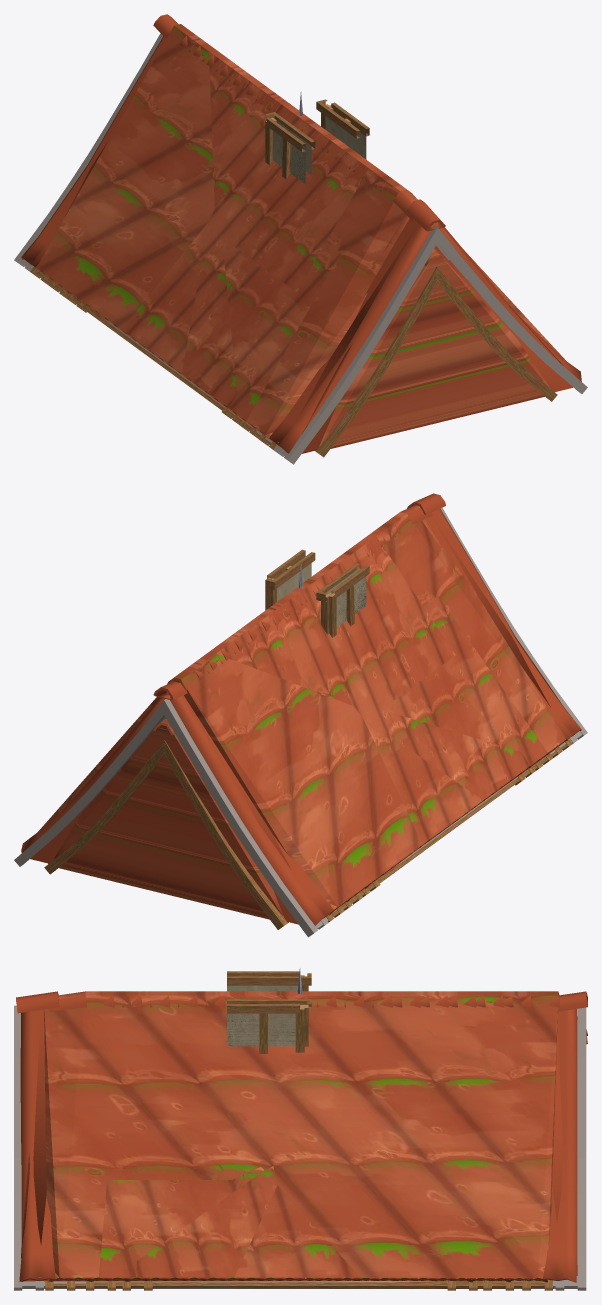
Rendered from village.glb.
3 views of the same model, one above another, from view 1: azimuth 30°, elevation 25°; view 2: azimuth 150°, elevation 25°; view 3: azimuth 270°, elevation 25° (orthographic). The views are drawn at different scales.
Visible parts, largest first — view 1: Roof_RoundTiles_8x12@far, Roof_RoundTiles_8x8@far, Roof_RoundTiles_6x14@far, Roof_RoundTiles_8x14, Roof_RoundTiles_8x10@far, Roof_RoundTiles_6x14, Roof_RoundTiles_8x14@far, Overhang_Side_Plaster_Long_L, Overhang_Side_Plaster_Long_R, Roof_RoundTiles_8x10, Overhang_Side_Plaster_Short_L, Roof_RoundTiles_8x12; view 2: Roof_RoundTiles_8x12@far, Roof_RoundTiles_8x8@far, Roof_RoundTiles_6x14@far, Roof_RoundTiles_8x14, Roof_RoundTiles_8x10@far, Roof_RoundTiles_6x14, Roof_RoundTiles_8x14@far, Overhang_Side_Plaster_Long_L, Overhang_Side_Plaster_Long_R, Roof_RoundTiles_8x10, Overhang_Side_Plaster_Short_L, Roof_RoundTiles_8x12; view 3: Roof_RoundTiles_8x12@far, Roof_RoundTiles_8x14, Roof_RoundTiles_8x10@far, Roof_RoundTiles_8x8@far, Roof_RoundTiles_8x14@far, Overhang_Side_Plaster_Long_R, Roof_RoundTiles_8x10, Overhang_Side_Plaster_Long_L, Roof_RoundTiles_8x12, Overhang_Side_Plaster_Short_R, Roof_RoundTiles_8x8, Overhang_Side_UnevenBrick_Long_R.
Part boxes in pixels (x1,y1,x2,y2): Roof_RoundTiles_8x12@far: (36, 24, 565, 434); Roof_RoundTiles_8x8@far: (182, 52, 368, 415); Roof_RoundTiles_6x14@far: (319, 255, 550, 448); Roof_RoundTiles_8x14: (14, 14, 587, 464); Roof_RoundTiles_8x10@far: (121, 158, 340, 420); Roof_RoundTiles_6x14: (315, 248, 557, 457); Roof_RoundTiles_8x14@far: (51, 140, 573, 453); Overhang_Side_Plaster_Long_L: (265, 112, 315, 183); Overhang_Side_Plaster_Long_R: (316, 100, 369, 159); Roof_RoundTiles_8x10: (48, 44, 380, 438); Overhang_Side_Plaster_Short_L: (265, 114, 294, 178); Roof_RoundTiles_8x12: (30, 36, 416, 449); Roof_RoundTiles_8x12@far: (38, 509, 566, 906); Roof_RoundTiles_8x8@far: (216, 536, 529, 882); Roof_RoundTiles_6x14@far: (53, 719, 284, 919); Roof_RoundTiles_8x14: (14, 493, 587, 937); Roof_RoundTiles_8x10@far: (309, 596, 547, 896); Roof_RoundTiles_6x14: (44, 722, 288, 929); Roof_RoundTiles_8x14@far: (30, 516, 578, 924); Overhang_Side_Plaster_Long_L: (316, 563, 369, 637); Overhang_Side_Plaster_Long_R: (265, 549, 315, 610); Roof_RoundTiles_8x10: (204, 528, 553, 910); Overhang_Side_Plaster_Short_L: (317, 576, 354, 635); Roof_RoundTiles_8x12: (168, 505, 572, 922); Roof_RoundTiles_8x12@far: (44, 991, 558, 1280); Roof_RoundTiles_8x14: (14, 991, 587, 1290); Roof_RoundTiles_8x10@far: (93, 1167, 408, 1280); Roof_RoundTiles_8x8@far: (128, 1166, 377, 1281); Roof_RoundTiles_8x14@far: (21, 998, 587, 1281); Overhang_Side_Plaster_Long_R: (227, 999, 311, 1053); Roof_RoundTiles_8x10: (86, 995, 513, 1290); Overhang_Side_Plaster_Long_L: (227, 971, 311, 991); Roof_RoundTiles_8x12: (45, 991, 559, 1290); Overhang_Side_Plaster_Short_R: (259, 999, 311, 1053); Roof_RoundTiles_8x8: (122, 995, 485, 1290); Overhang_Side_UnevenBrick_Long_R: (227, 1014, 295, 1046).
Bounding box in the file's own units: 9.95 × 8.91 × 15.71.
10 materials, 9 textured.
